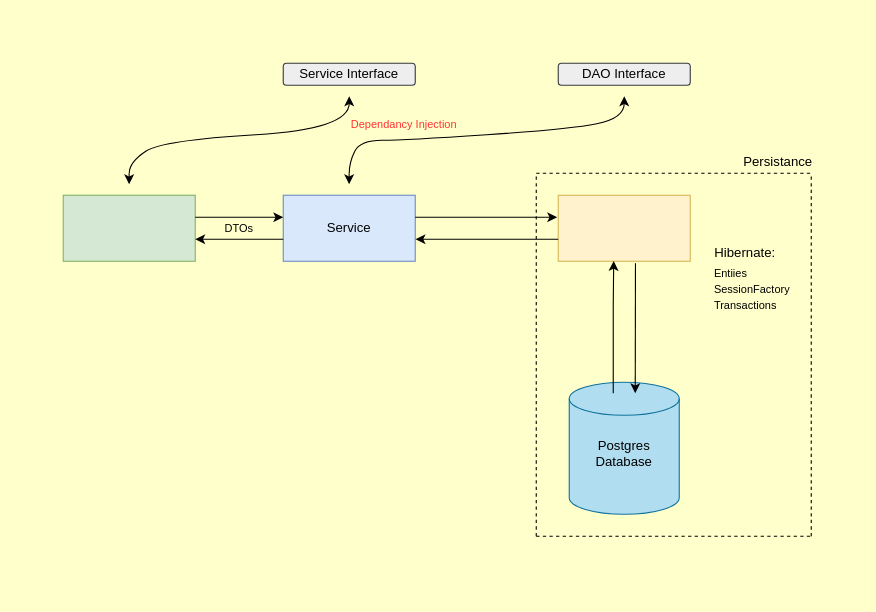
The diagram is 876 pixels wide and 612 high, and some of its shapes have lost their labels. The centre of each missing label's shape, as x and y in pixels:
"Controller" goes at pixel 128 227.
"Dao" goes at pixel 623 227.
